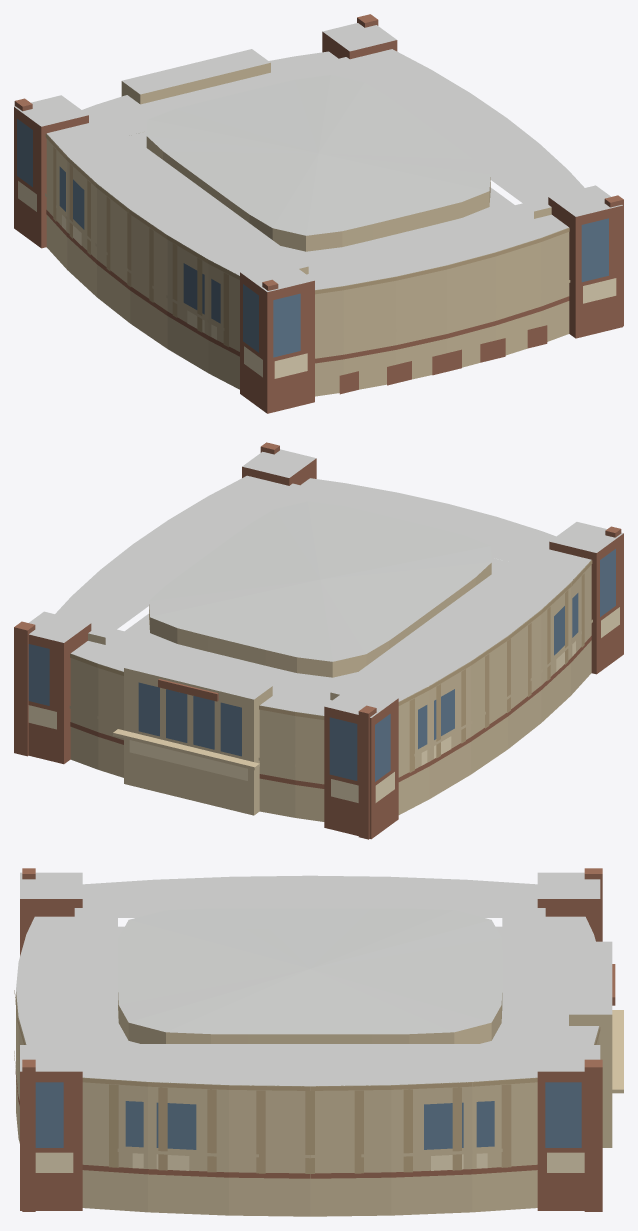
Rendered from phx-desert-diamond-arena.glb.
3 renders of one model, top to bottom at view 1: azimuth 30°, elevation 25°; view 2: azimuth 150°, elevation 25°; view 3: azimuth 270°, elevation 25°, orthographic. The views are drawn at different scales.
Visible parts, largest first — view 1: Desert Diamond Arena; view 2: Desert Diamond Arena; view 3: Desert Diamond Arena.
Boxes of the visible parts, bbox=[...] form: Desert Diamond Arena: bbox=[14, 14, 623, 413]; Desert Diamond Arena: bbox=[14, 442, 623, 839]; Desert Diamond Arena: bbox=[14, 868, 623, 1216].
Size of the model in its own units: 128 by 40.7 by 155.
